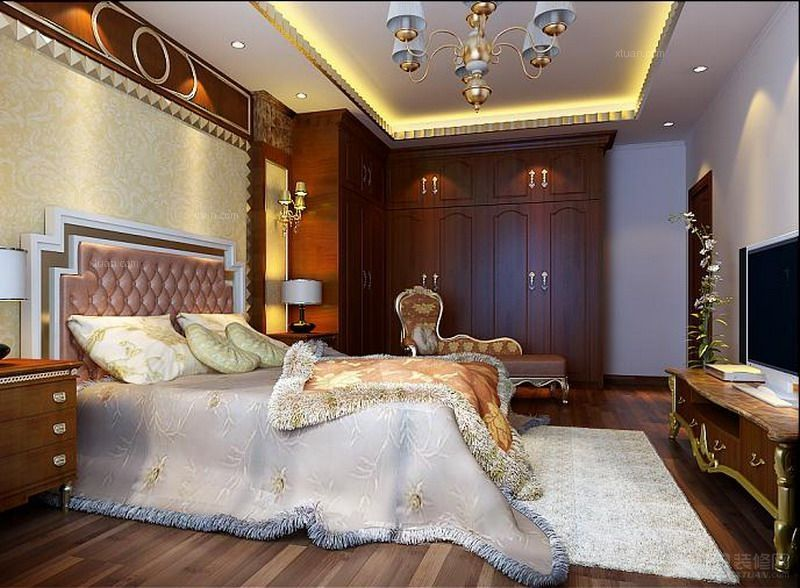床: (45, 350, 576, 545)
枕头: (67, 312, 283, 383)
灯: (371, 2, 585, 107), (277, 277, 324, 338), (273, 180, 313, 231), (691, 63, 715, 78), (660, 116, 680, 132), (224, 39, 246, 52), (293, 91, 310, 105)
